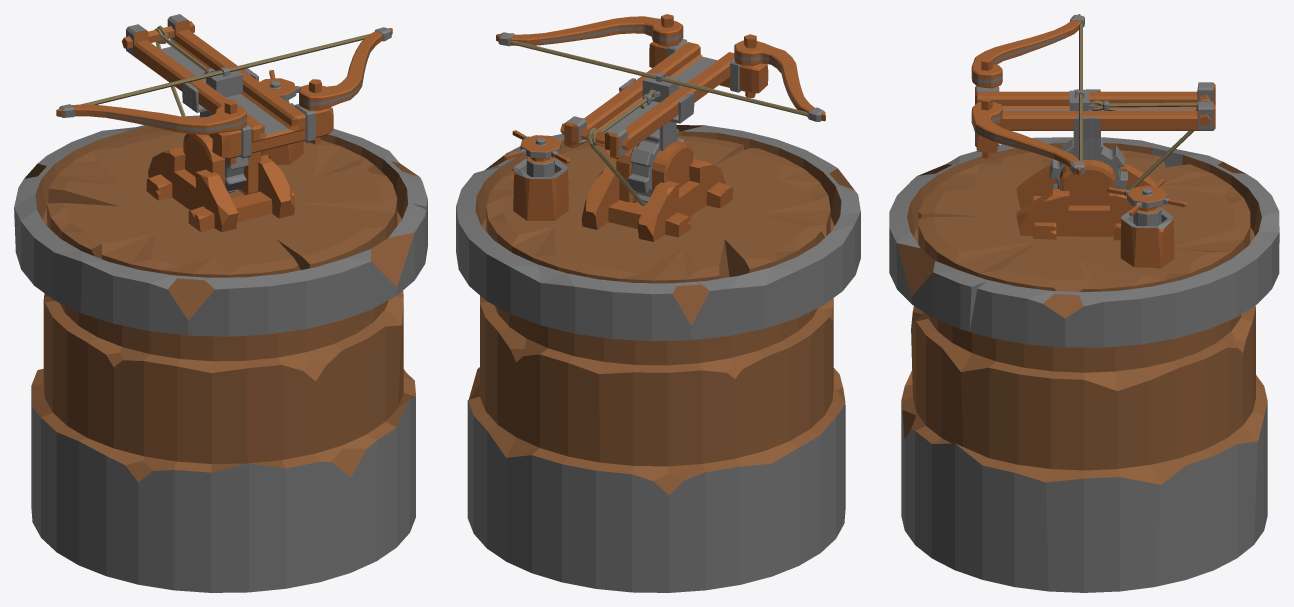
File: Ballista.fbx
3 renders of one model, left to right at view 1: azimuth 30°, elevation 25°; view 2: azimuth 150°, elevation 25°; view 3: azimuth 270°, elevation 25°, orthographic. The views are drawn at different scales.
Visible parts, largest first — view 1: PlatformBottom, PlatformTop, Bed, Base, Shoulders, Rope, Wheel, Striker, Cog, Rope2, Stand; view 2: PlatformBottom, PlatformTop, Base, Bed, Shoulders, Wheel, Rope, Cog, Stand, Rope2, Striker; view 3: PlatformBottom, PlatformTop, Bed, Base, Shoulders, Wheel, Cog, Stand, Rope2, Rope.
Boxes of the visible parts, <box> form: PlatformBottom: <box>14,115,427,592</box>; PlatformTop: <box>46,130,397,277</box>; Bed: <box>126,14,333,158</box>; Base: <box>146,133,295,232</box>; Shoulders: <box>56,27,392,134</box>; Rope: <box>80,33,370,104</box>; Wheel: <box>260,70,303,164</box>; Striker: <box>206,67,242,97</box>; Cog: <box>225,156,248,193</box>; Rope2: <box>154,25,215,116</box>; Stand: <box>182,68,258,138</box>; PlatformBottom: <box>456,125,860,592</box>; PlatformTop: <box>486,135,830,283</box>; Base: <box>581,141,733,241</box>; Bed: <box>564,39,768,159</box>; Shoulders: <box>496,16,825,121</box>; Wheel: <box>504,130,569,220</box>; Rope: <box>510,40,808,116</box>; Cog: <box>627,129,684,203</box>; Stand: <box>619,78,694,150</box>; Rope2: <box>587,89,656,205</box>; Striker: <box>642,72,679,102</box>; PlatformBottom: <box>889,137,1279,592</box>; PlatformTop: <box>918,149,1250,292</box>; Bed: <box>975,82,1215,153</box>; Base: <box>1016,160,1161,240</box>; Shoulders: <box>971,14,1084,175</box>; Wheel: <box>1107,178,1186,268</box>; Cog: <box>1049,137,1127,188</box>; Stand: <box>1073,89,1100,161</box>; Rope2: <box>1090,99,1210,190</box>; Rope: <box>1079,23,1082,161</box>.
Bounding box in the file's own units: 263 × 324 × 263.
